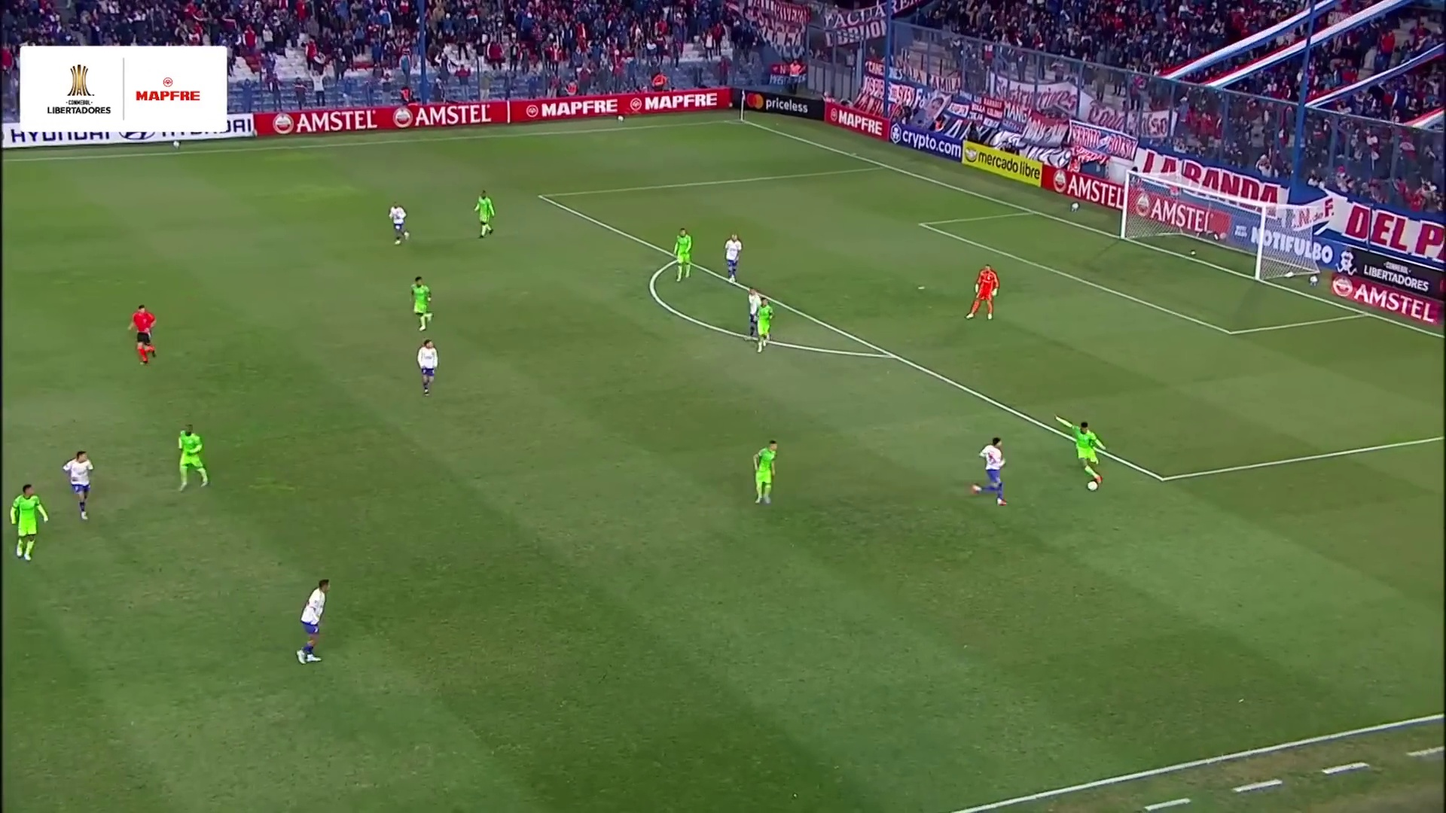ball: (1087, 480, 1099, 491)
player: (292, 577, 334, 667), (6, 483, 51, 563), (967, 435, 1012, 508), (1070, 420, 1110, 493), (60, 449, 97, 522), (174, 423, 212, 492), (963, 263, 1003, 323), (748, 438, 782, 507), (414, 339, 443, 398), (408, 275, 437, 331), (472, 189, 500, 240), (742, 284, 765, 345), (670, 227, 695, 283), (720, 233, 746, 286), (754, 292, 776, 354), (387, 202, 412, 247)
referee: (127, 304, 161, 367)
